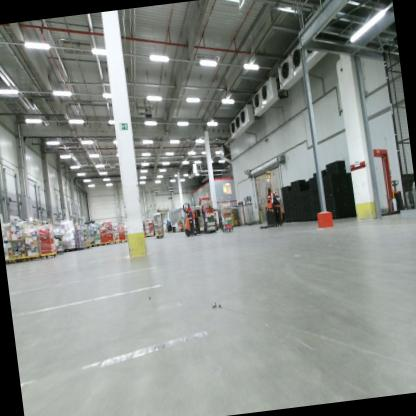pallet_truck: (250, 186, 288, 227), (371, 174, 408, 215), (178, 201, 213, 237), (208, 210, 220, 231), (173, 217, 186, 233)
